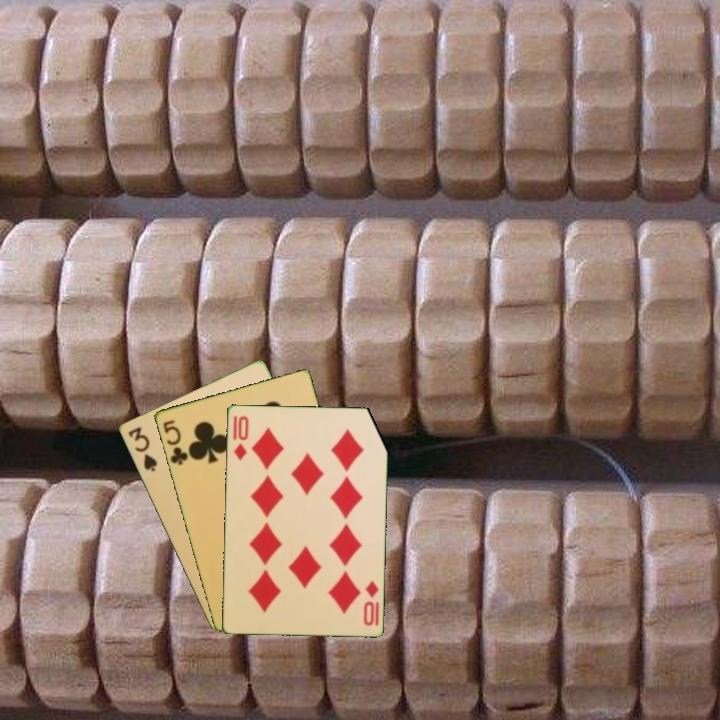10d: (230, 412, 251, 463), (360, 577, 381, 628)
3s: (124, 423, 160, 474)
5c: (159, 416, 190, 468)
